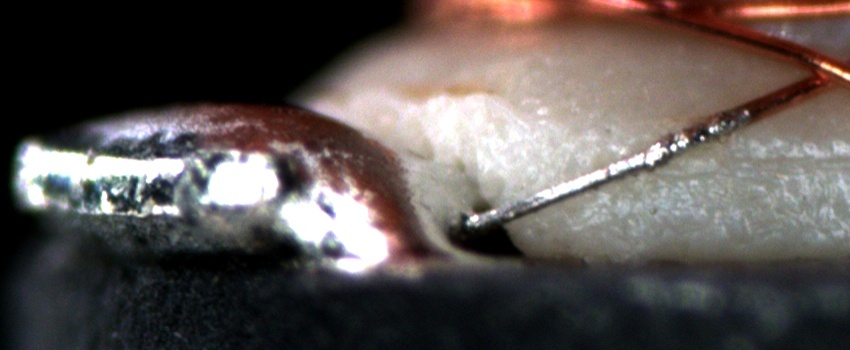CL: (790, 46, 848, 96)
DL: (699, 129, 850, 187)
TS: (466, 108, 748, 233)
